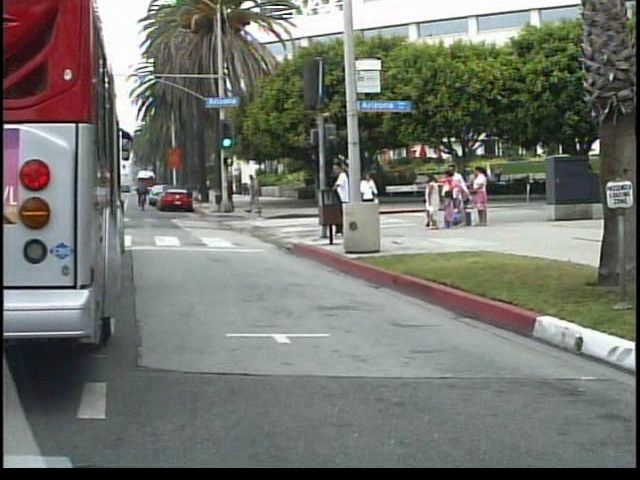person: (332, 159, 356, 239), (361, 167, 385, 229), (248, 169, 268, 213)
